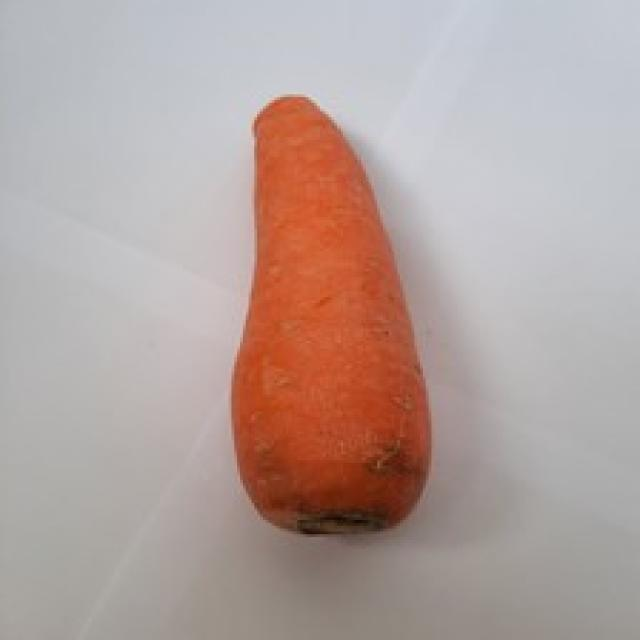Fresh_Carrot: (230, 95, 440, 511)
